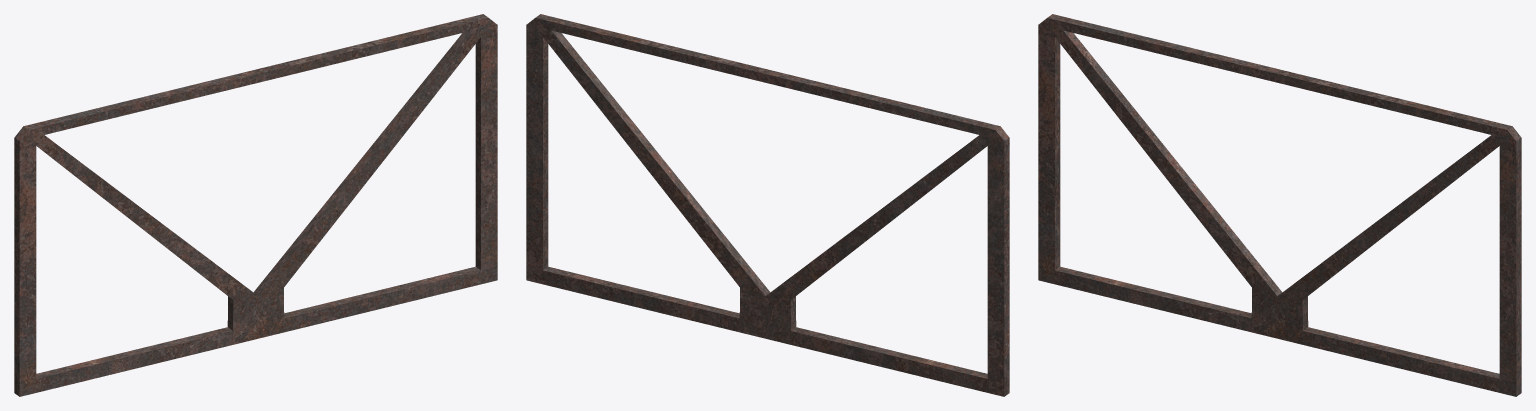
The model's file is marco.glb.
3 views of the same model, side by side, from view 1: azimuth 30°, elevation 25°; view 2: azimuth 150°, elevation 25°; view 3: azimuth 330°, elevation 25° (orthographic).
Visible parts, largest first — view 1: Plane; view 2: Plane; view 3: Plane.
Boxes of the visible parts, box(x1,y1,x2,y2) form: Plane: box(14, 14, 497, 396); Plane: box(526, 14, 1009, 396); Plane: box(1038, 14, 1521, 396).
Bounding box in the file's own units: 3.84 × 2.03 × 0.0726.
Materials: 1 (1 with a texture image).
